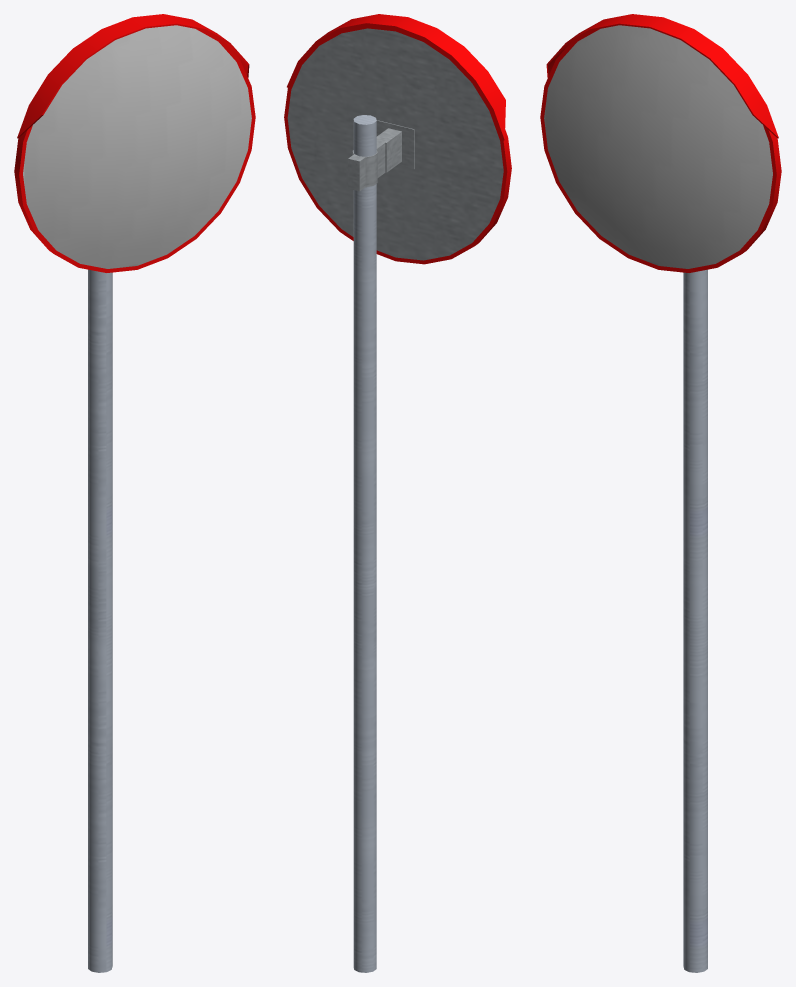
The model's file is Traffic_Mirrors.gltf.
3 renders of one model, left to right at view 1: azimuth 30°, elevation 25°; view 2: azimuth 150°, elevation 25°; view 3: azimuth 330°, elevation 25°, orthographic. The views are drawn at different scales.
Visible parts, largest first — view 1: 6018735, 6018733, 6018736; view 2: 6018735, 6018733, 6018736, 6018739, 6018737, 6018738; view 3: 6018735, 6018733, 6018736.
Boxes of the visible parts, x1,y1,x2,y2 form: 6018735: (14, 25, 255, 272); 6018733: (88, 269, 112, 972); 6018736: (17, 14, 249, 138); 6018735: (284, 24, 511, 264); 6018733: (353, 115, 376, 972); 6018736: (287, 14, 505, 140); 6018739: (348, 140, 385, 191); 6018737: (376, 120, 414, 168); 6018738: (376, 128, 401, 172); 6018735: (540, 25, 781, 272); 6018733: (683, 269, 707, 972); 6018736: (546, 14, 778, 138).
Bounding box in the file's own units: 0.8265 × 3.25 × 0.3507.
311 materials, 186 textured.
